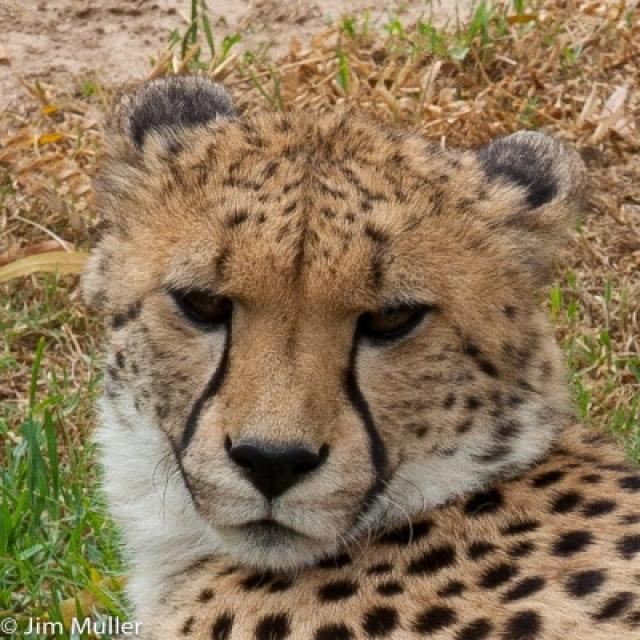Cheetah: (78, 75, 638, 638)
